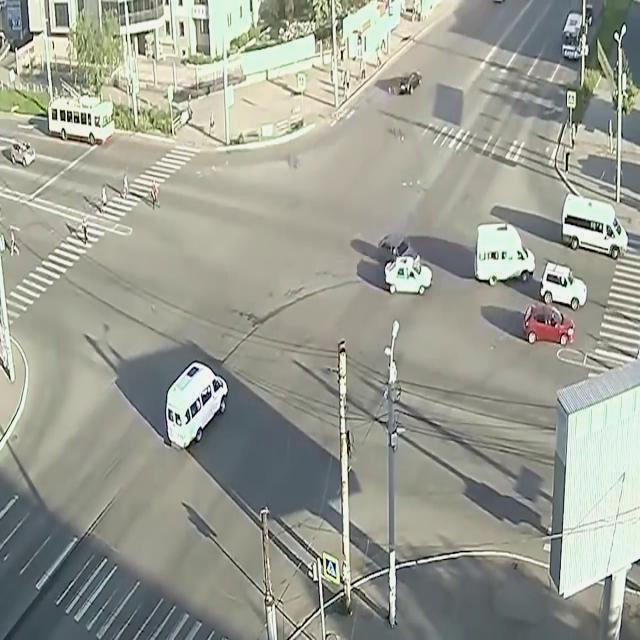accident: (375, 234, 433, 298)
non-accident: (472, 222, 588, 312), (520, 262, 588, 346)
